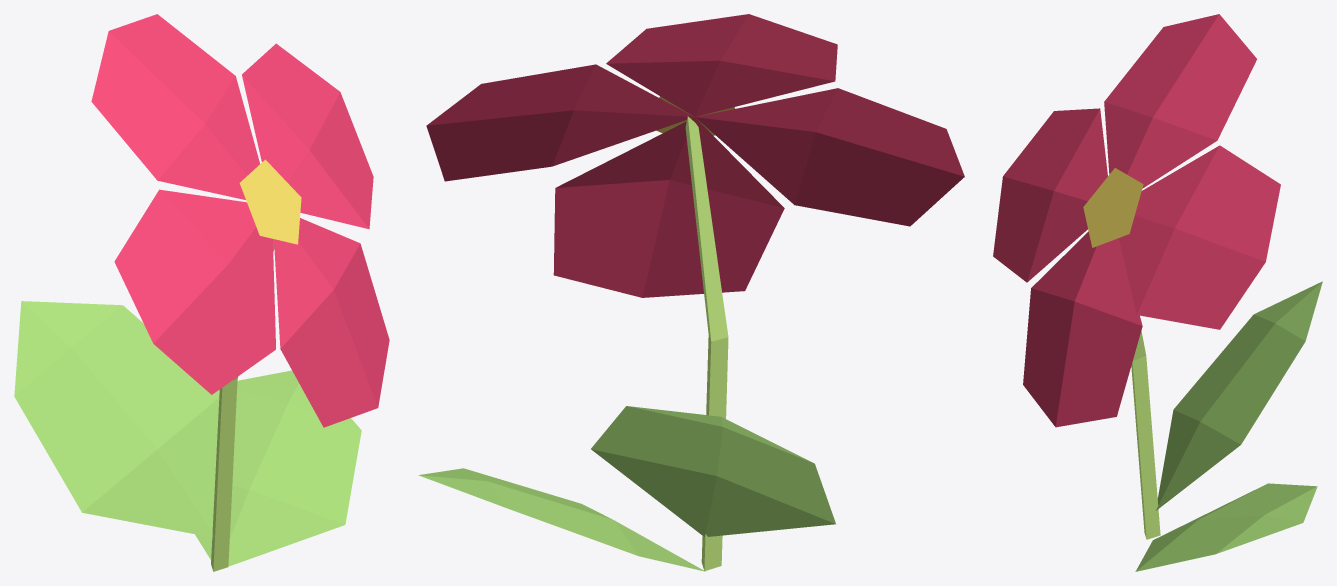
The model's file is Flower_c_OneS_14.fbx.
The picture shows the model from 3 angles, left to right: view 1: azimuth 30°, elevation 25°; view 2: azimuth 150°, elevation 25°; view 3: azimuth 270°, elevation 25°; orthographic projection. The views are drawn at different scales.
Parts seen in each view (by area): view 1: Flower_c_OneS_14; view 2: Flower_c_OneS_14; view 3: Flower_c_OneS_14.
Boxes of the visible parts, x1=… form: Flower_c_OneS_14: x1=14, y1=14, x2=389, y2=571; Flower_c_OneS_14: x1=418, y1=14, x2=964, y2=571; Flower_c_OneS_14: x1=993, y1=14, x2=1322, y2=571.
Size of the model in its own units: 25.84 by 37.62 by 22.8.
